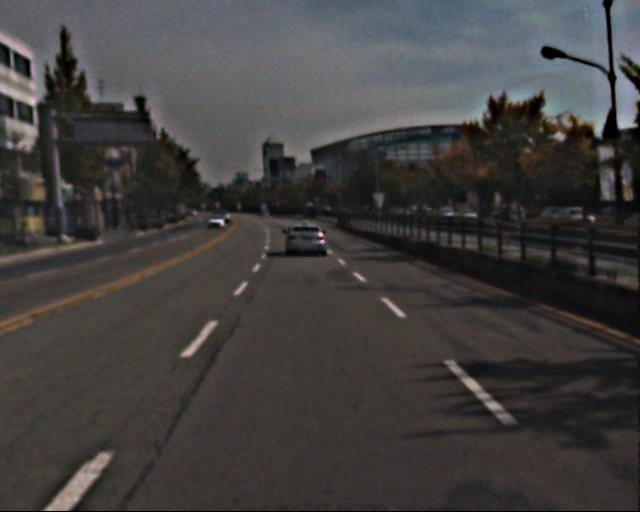person: (496, 204, 515, 251)
